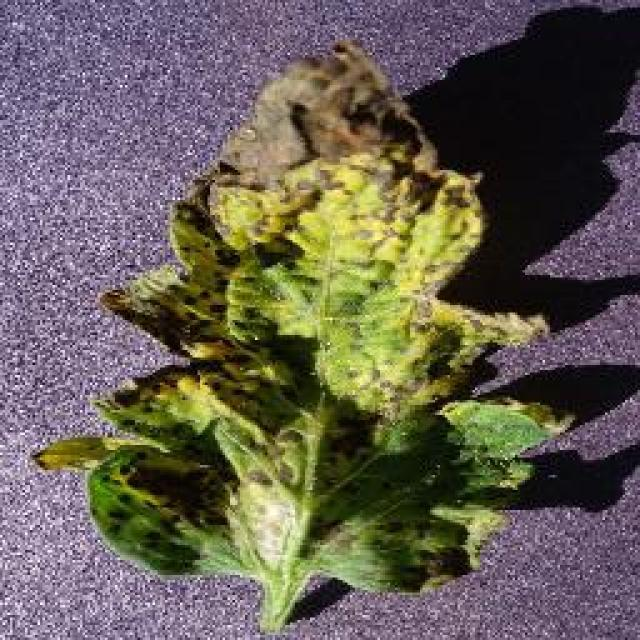Tomato Septoria spot leaf: (32, 30, 570, 607)
